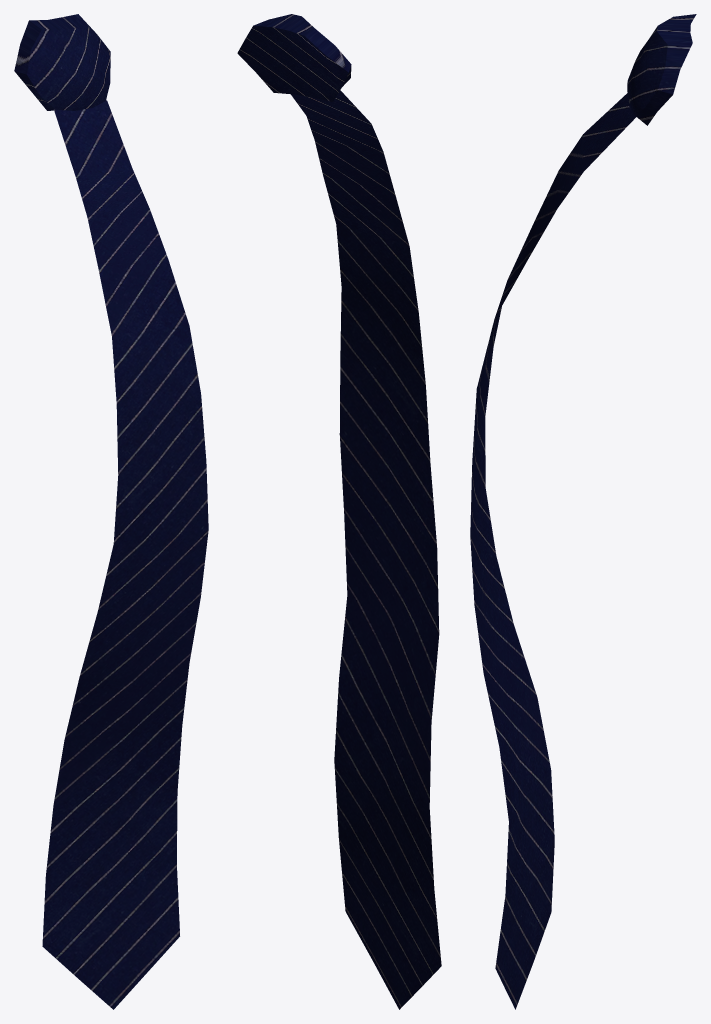
File: Pose-6_SuitTie-4.fbx
3 renders of one model, left to right at view 1: azimuth 30°, elevation 25°; view 2: azimuth 150°, elevation 25°; view 3: azimuth 270°, elevation 25°, orthographic. The views are drawn at different scales.
Parts seen in each view (by area): view 1: Pose-6_SuitTie-4; view 2: Pose-6_SuitTie-4; view 3: Pose-6_SuitTie-4.
Boxes of the visible parts, x1,y1,x2,y2 form: Pose-6_SuitTie-4: [14, 14, 208, 1009]; Pose-6_SuitTie-4: [237, 14, 441, 1009]; Pose-6_SuitTie-4: [470, 14, 696, 1009].
Size of the model in its own units: 7.44 by 51.36 by 10.58.
